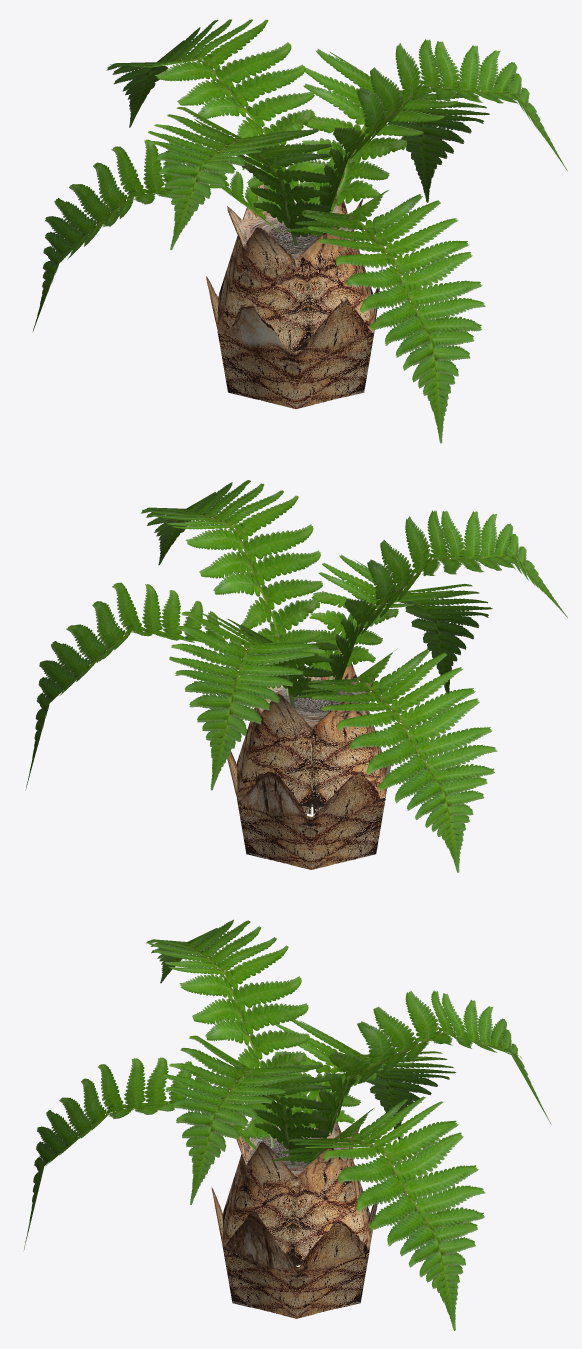
Rendered from Plant_Fern_B.fbx.
The picture shows the model from 3 angles, top to bottom: view 1: azimuth 30°, elevation 25°; view 2: azimuth 150°, elevation 25°; view 3: azimuth 270°, elevation 25°; orthographic projection. The views are drawn at different scales.
Parts seen in each view (by area): view 1: pCylinder4; view 2: pCylinder4; view 3: pCylinder4.
Boxes of the visible parts, <box> form: pCylinder4: <box>33,19,567,443</box>; pCylinder4: <box>25,480,567,872</box>; pCylinder4: <box>24,919,551,1330</box>.
Size of the model in its own units: 7.47 by 4.42 by 7.48.
